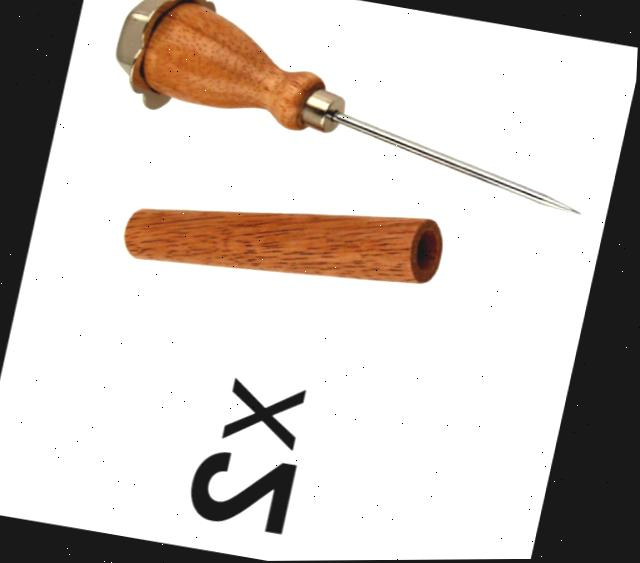ice pick: (95, 0, 622, 218)
